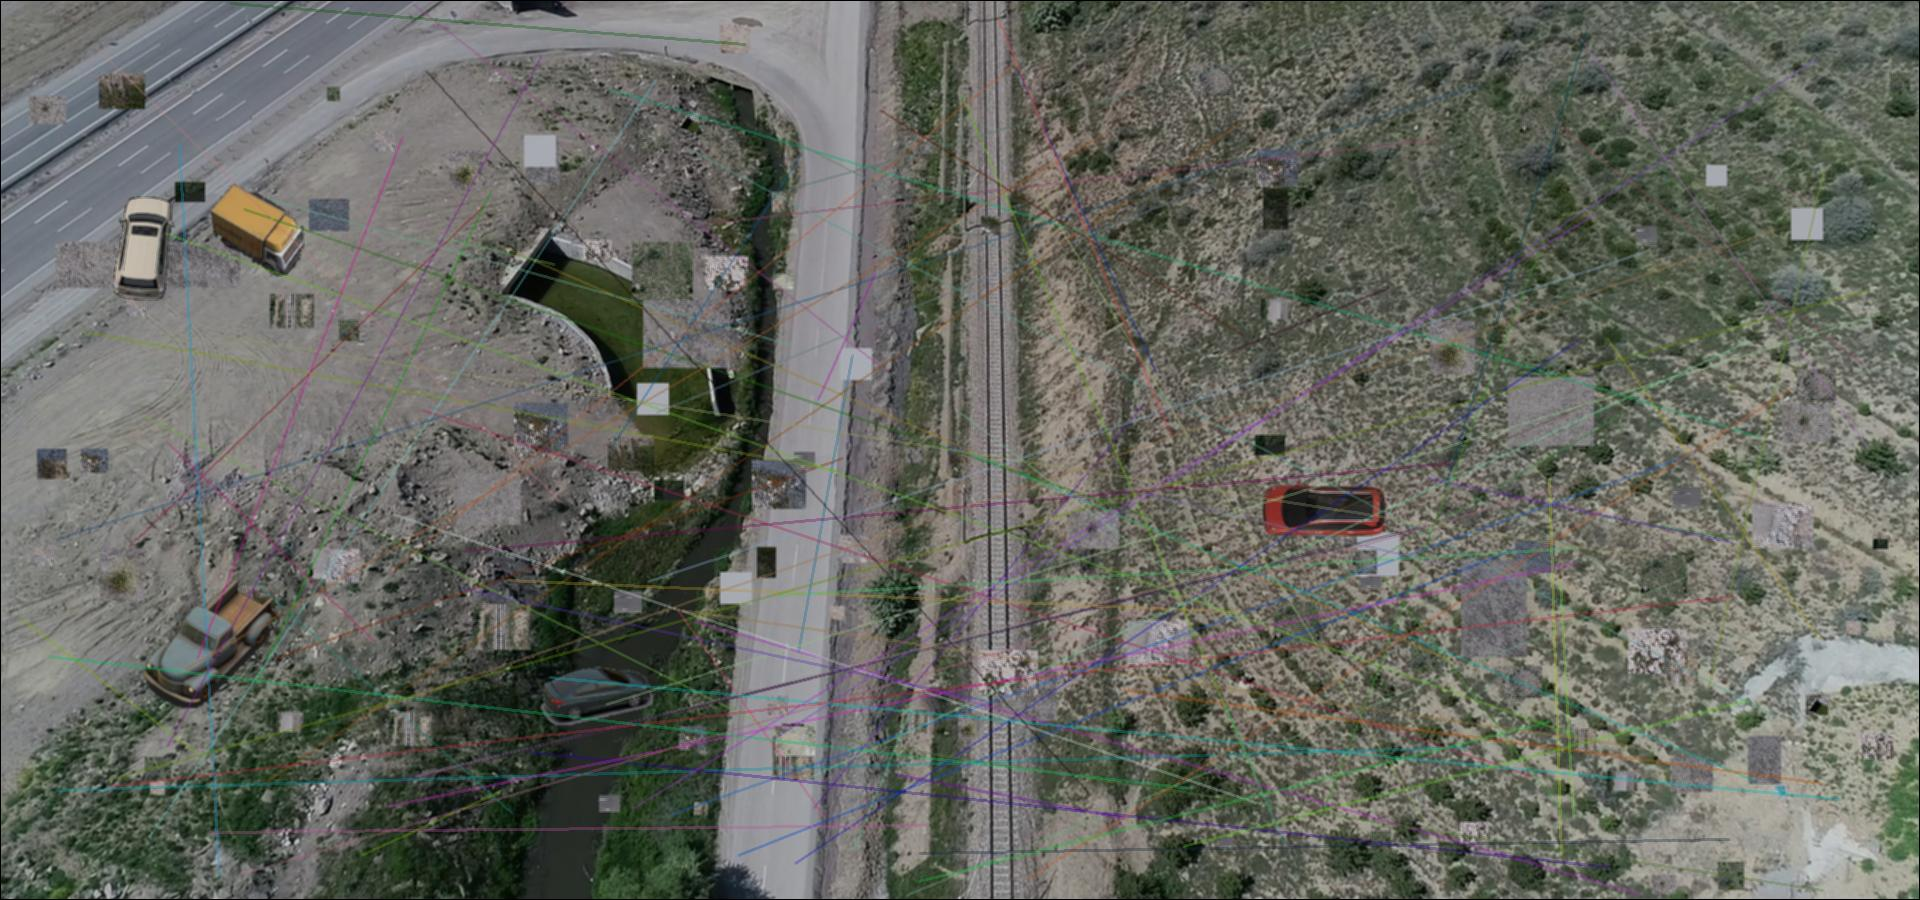arac: (144, 580, 280, 708), (209, 180, 304, 276), (1261, 478, 1391, 542), (109, 193, 176, 301), (539, 667, 653, 725)
